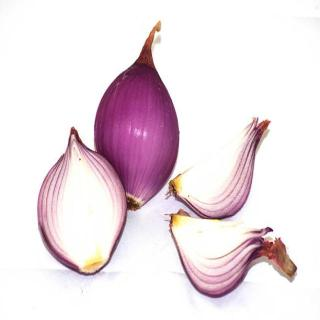Bawang Merah: (92, 17, 182, 215), (35, 125, 131, 278)
